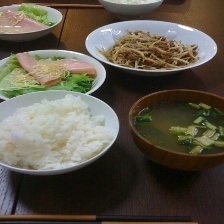rice: (0, 91, 116, 174)
